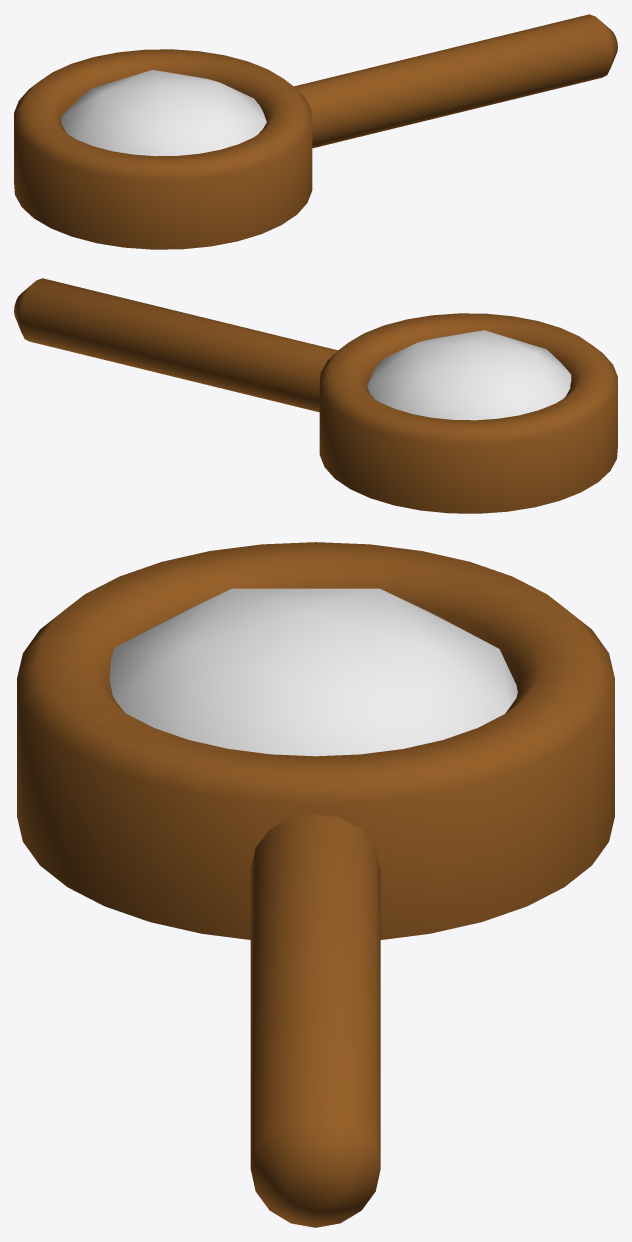
Rendered from Magnifier.fbx.
3 renders of one model, top to bottom at view 1: azimuth 30°, elevation 25°; view 2: azimuth 150°, elevation 25°; view 3: azimuth 270°, elevation 25°, orthographic. The views are drawn at different scales.
Visible parts, largest first — view 1: Magnifier; view 2: Magnifier; view 3: Magnifier.
Part boxes in pixels (<box>): Magnifier: <box>14,14,617,249</box>; Magnifier: <box>14,278,617,513</box>; Magnifier: <box>17,542,614,1227</box>.
Size of the model in its own units: 23.71 by 5.31 by 10.63.
